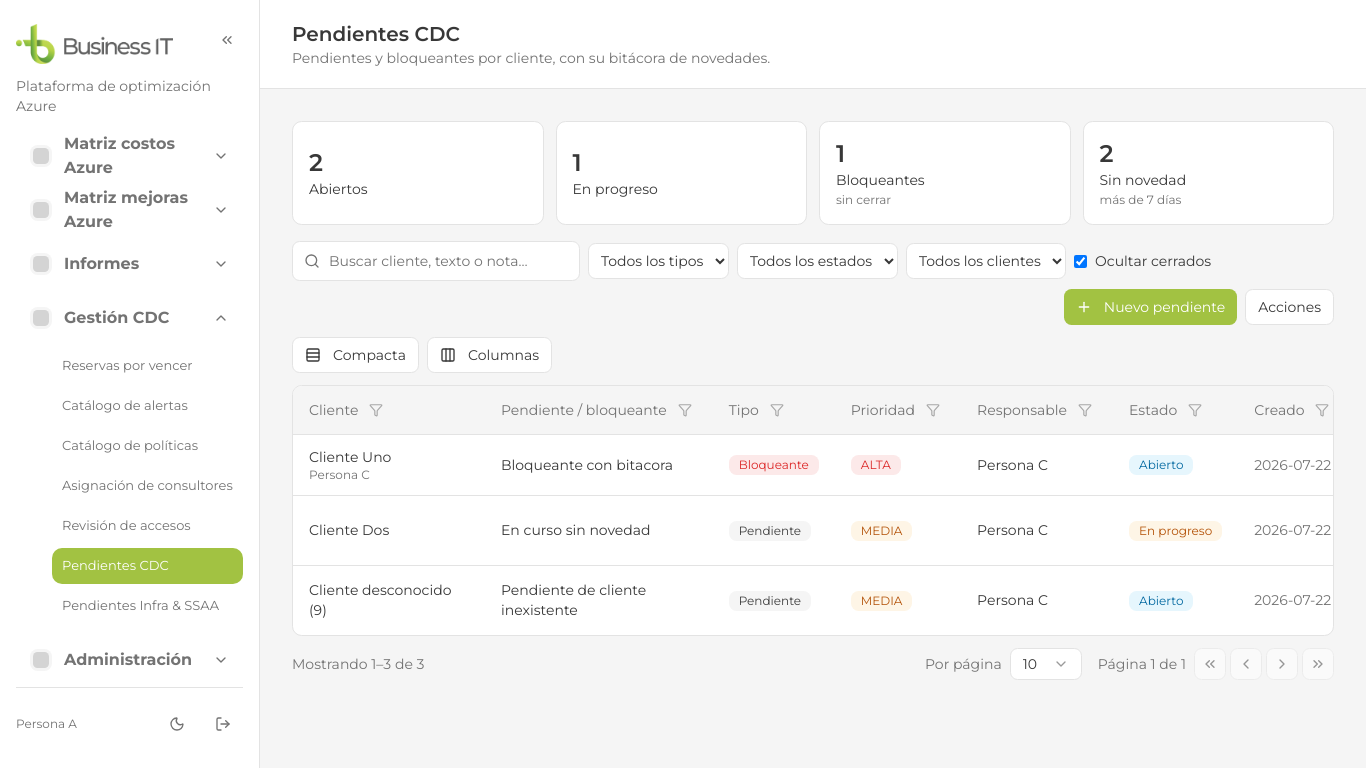
Enter en el buscador elige el nombre resaltado de la lista
expect the text "Bloqueante con bitacora" is shown: met, box x1=501 y1=454 x2=697 y2=474
Click the button "Nuevo pendiente": [1150, 307] box x1=1064 y1=289 x2=1237 y2=325
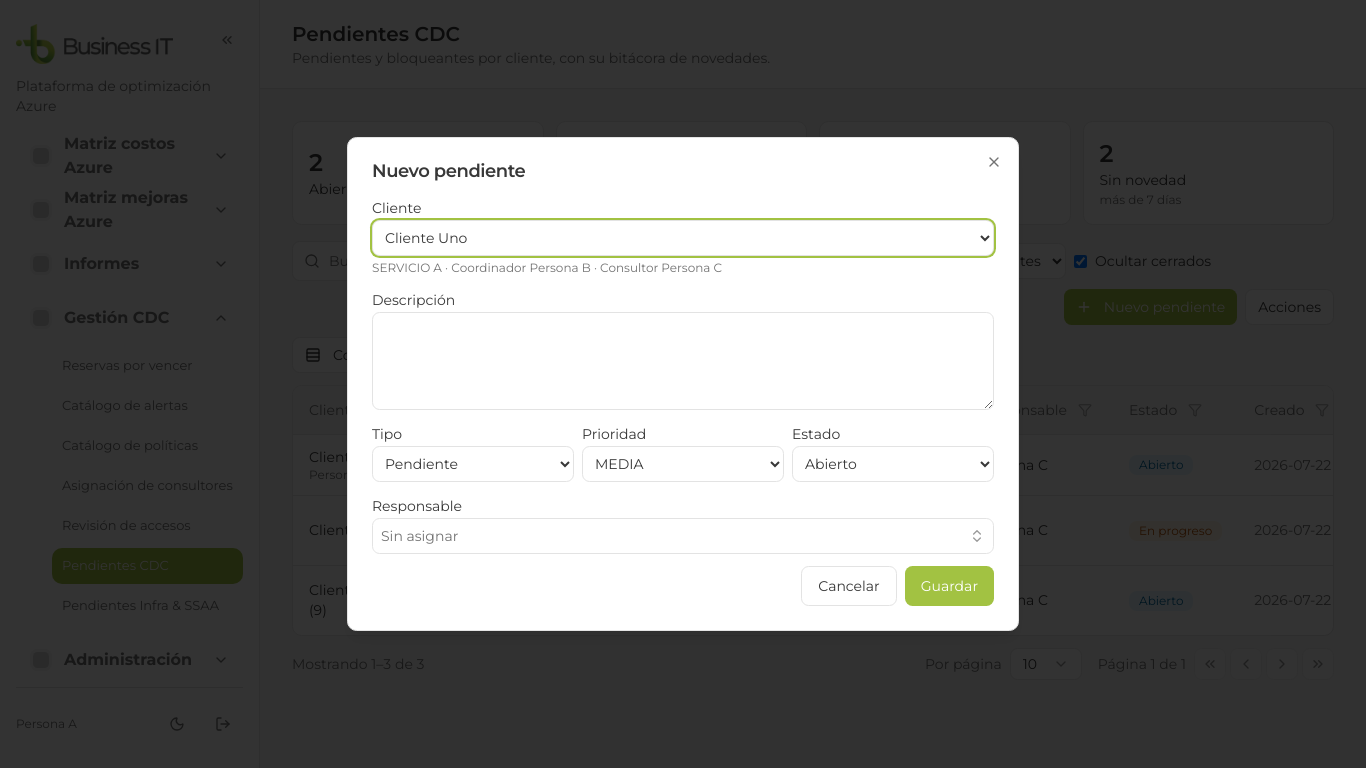
In the text box labelled "Descripción": [683, 361] box x1=372 y1=312 x2=994 y2=410, type "Caso nuevo"
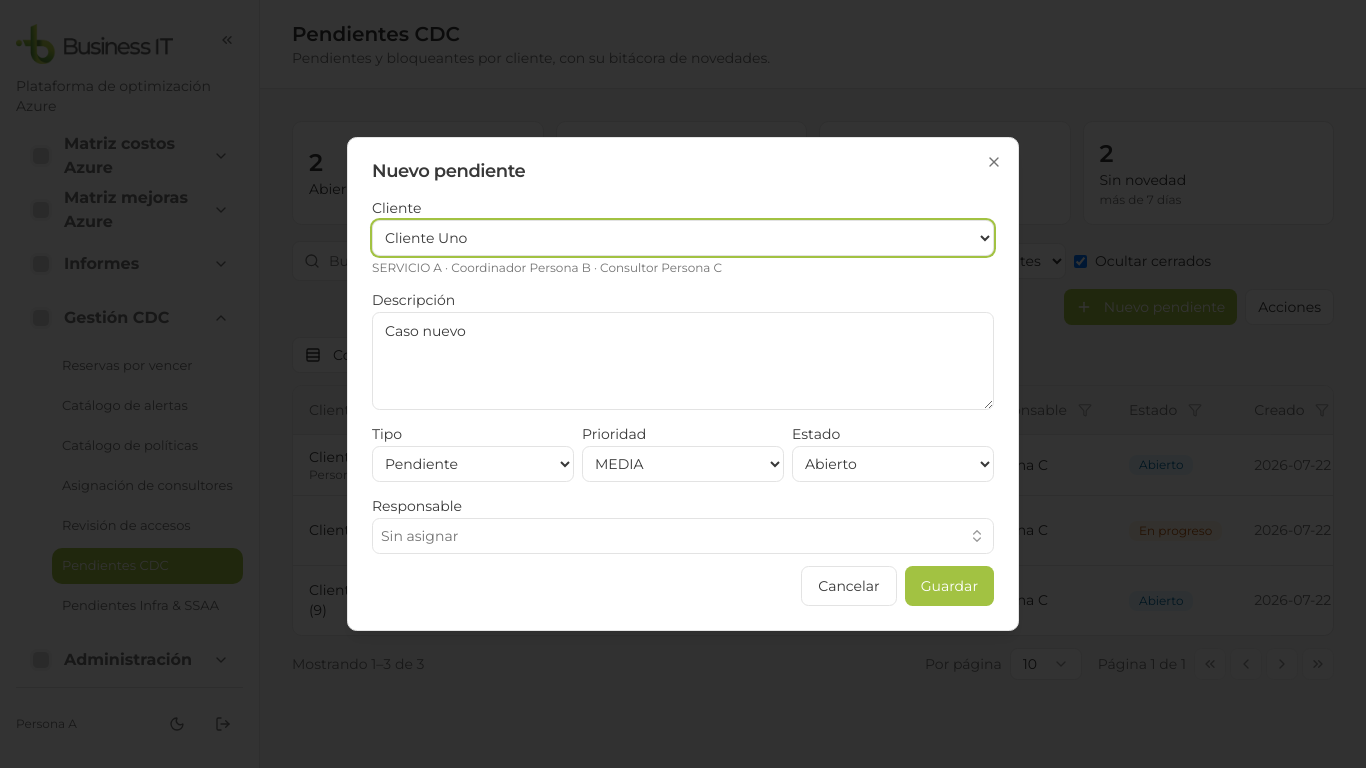
Click the button named "responsable": [420, 536] box x1=372 y1=518 x2=994 y2=554
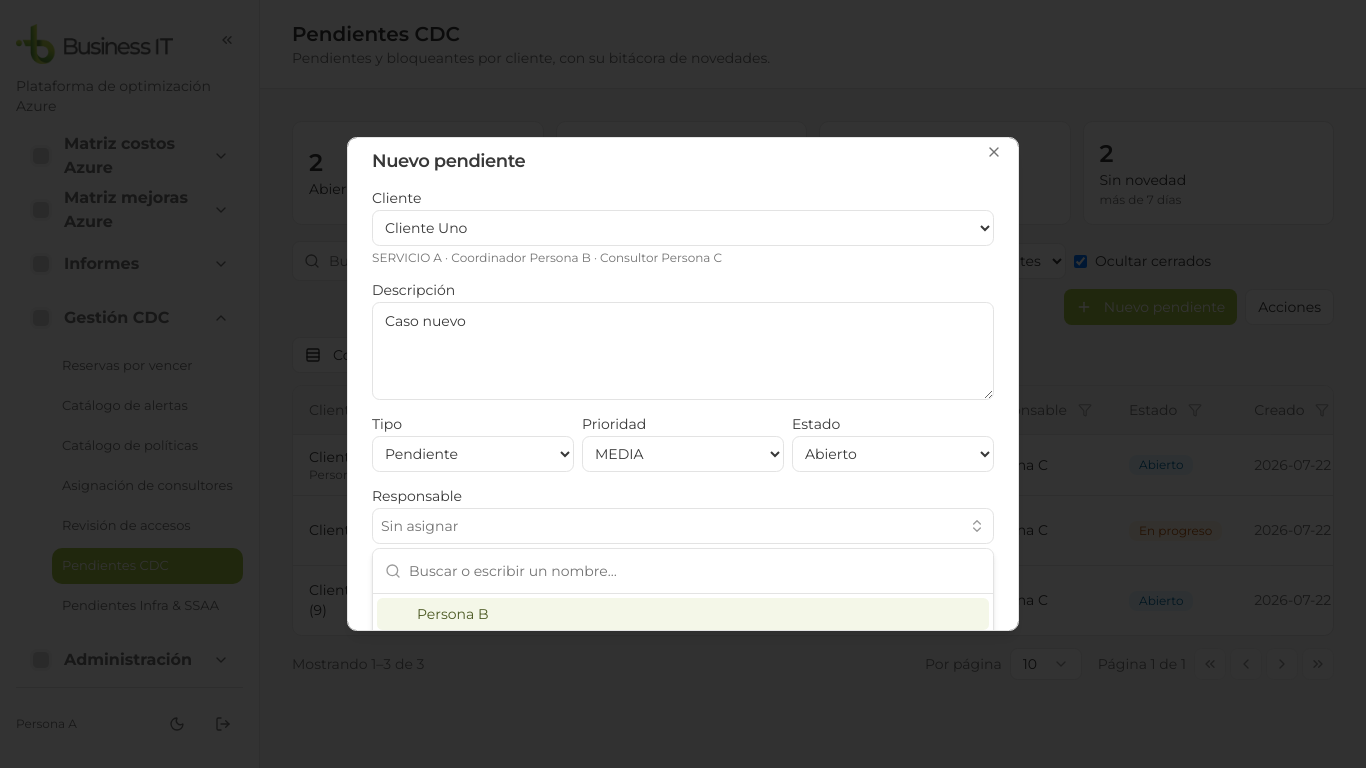
In the dropdown with placeholder "Buscar o escribir un nombre…": [695, 571] box x1=409 y1=549 x2=981 y2=593, type "persona b"
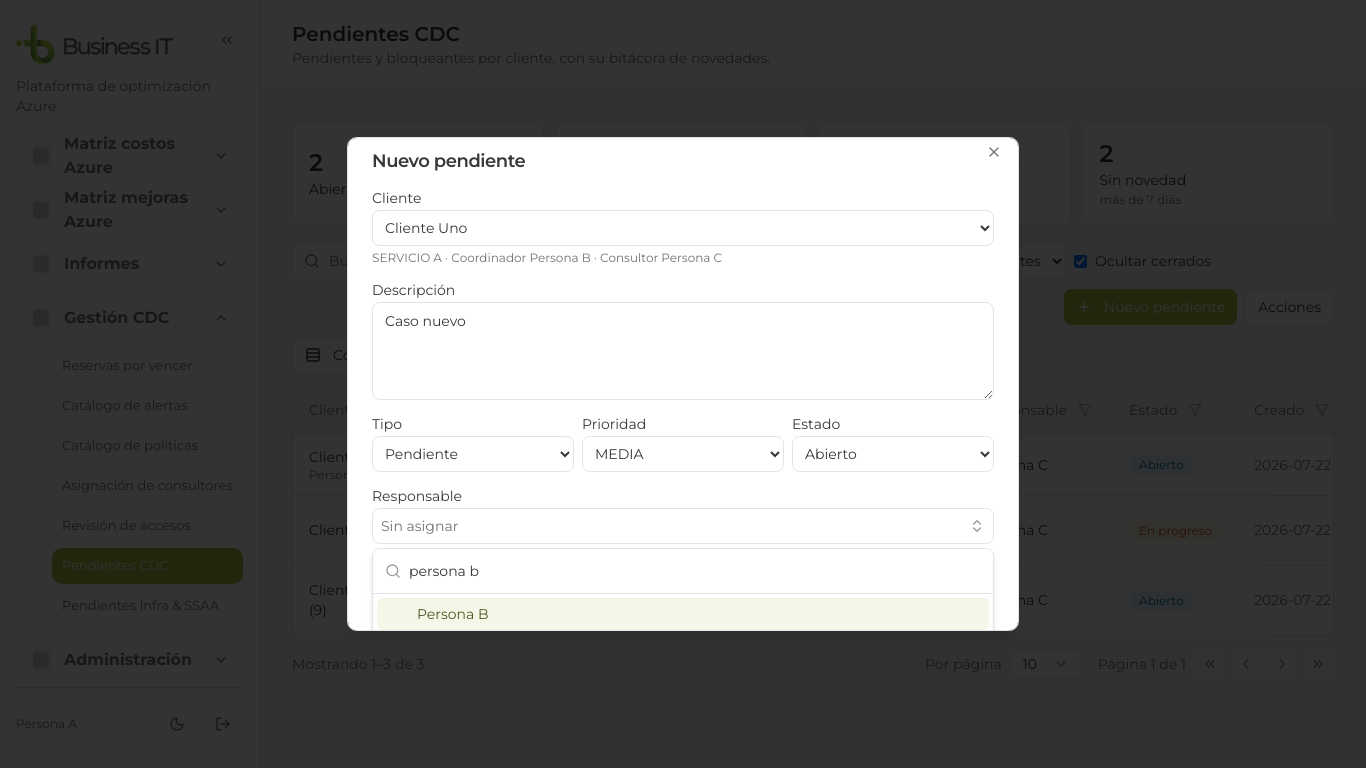
Press Enter in the dropdown with placeholder "Buscar o escribir un nombre…", box x1=409 y1=549 x2=981 y2=593
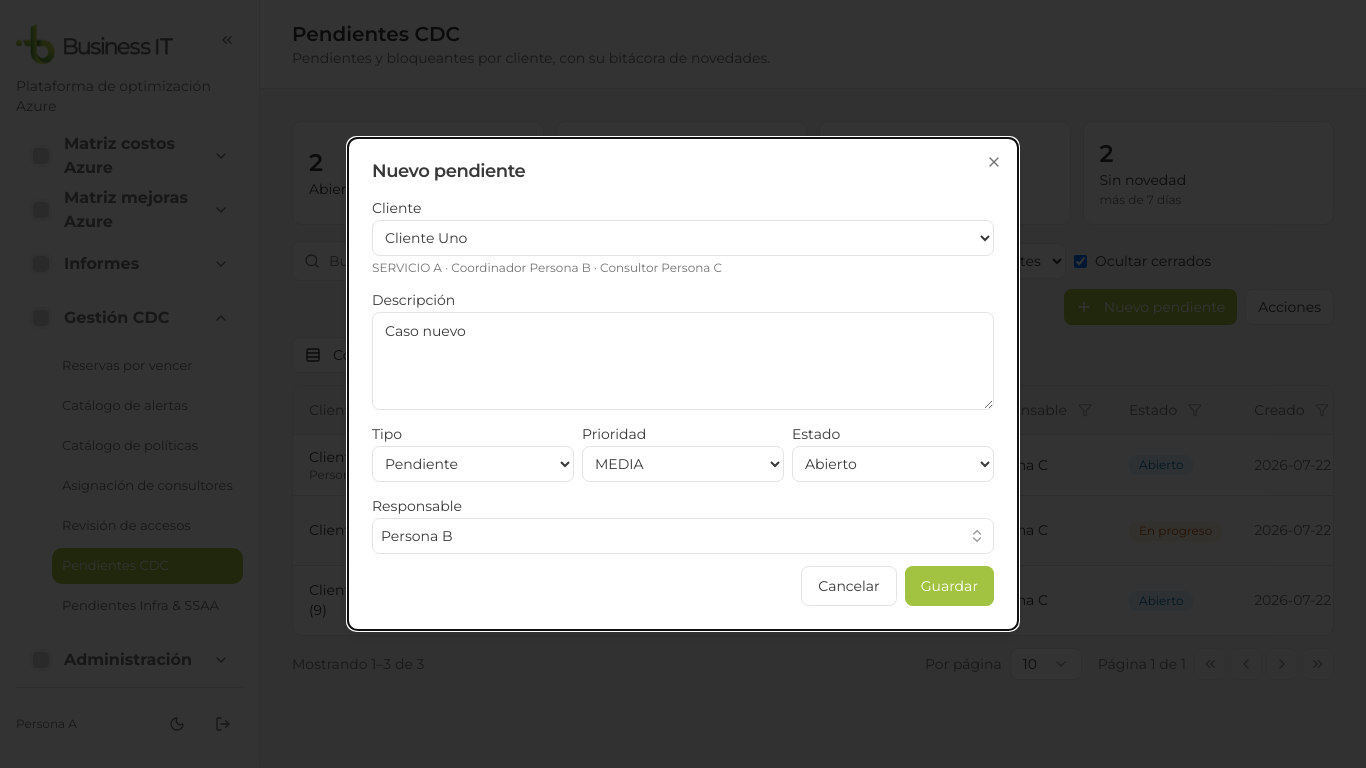
expect the button named "responsable" reads "Persona B": met, box x1=372 y1=518 x2=994 y2=554
